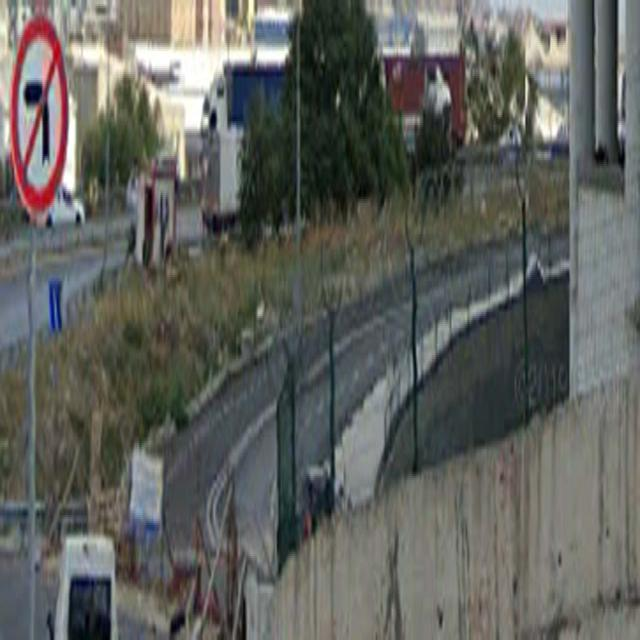soladonulmez: (10, 13, 68, 216)
